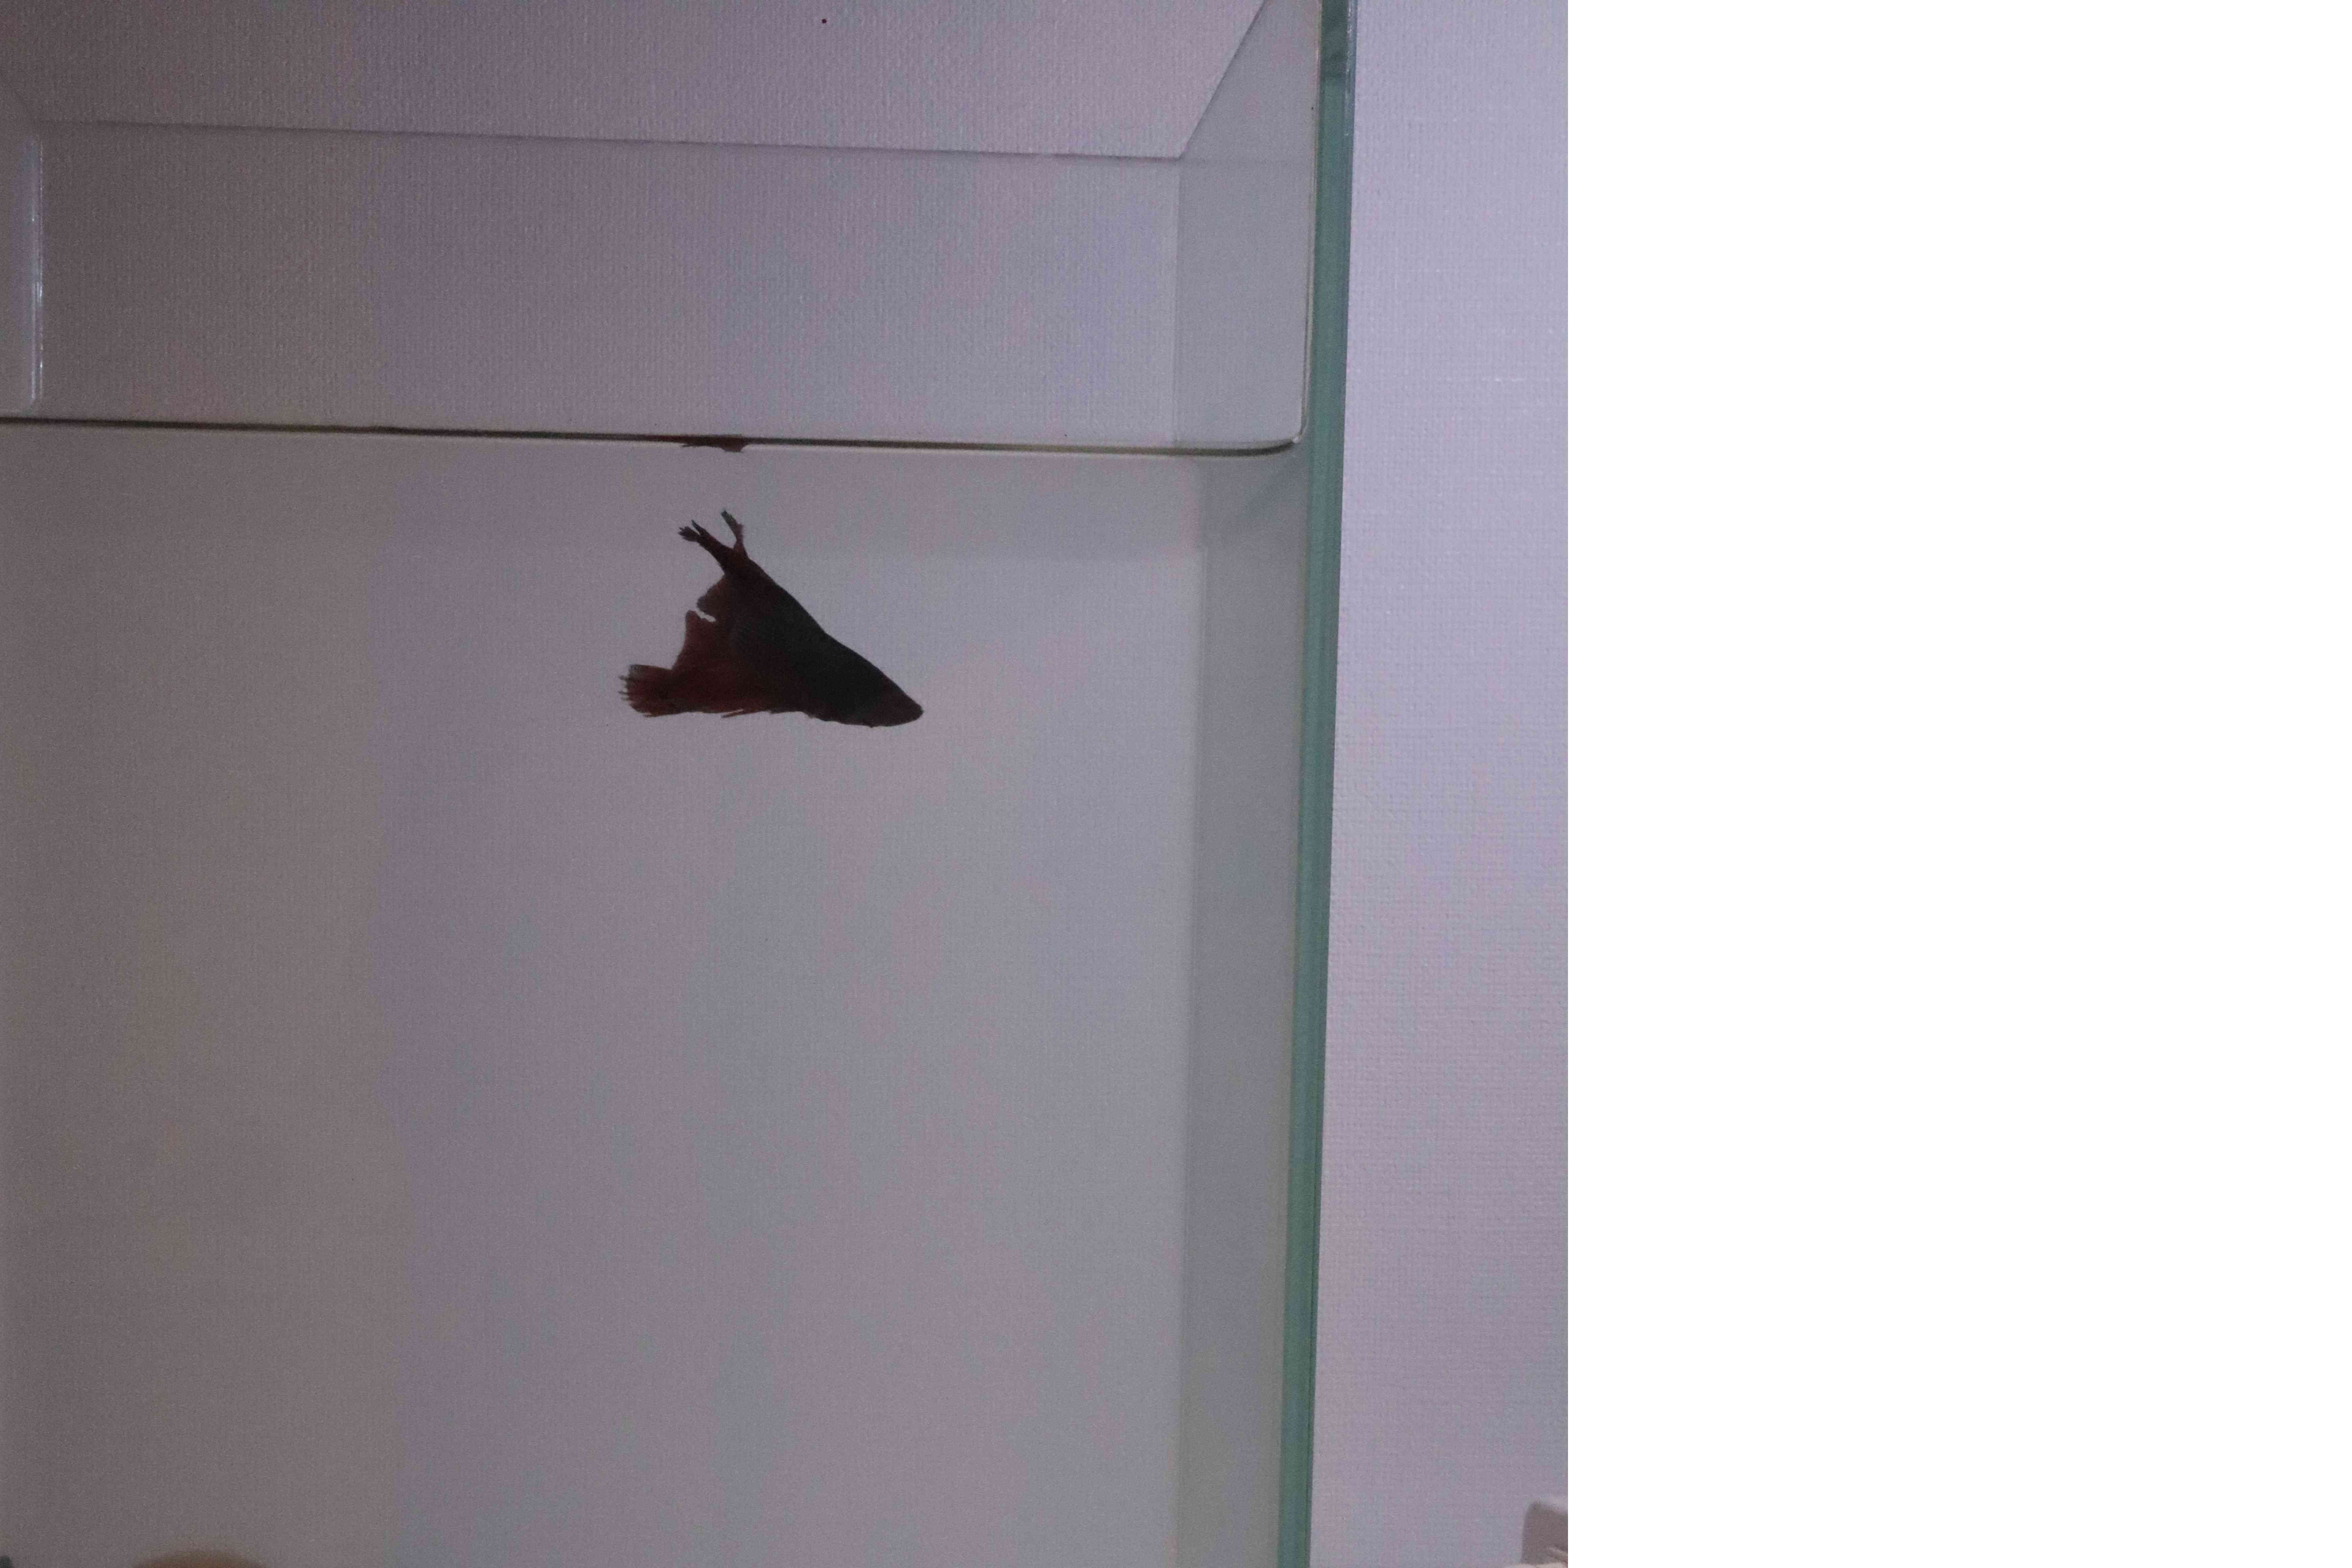fish: (598, 499, 950, 758)
